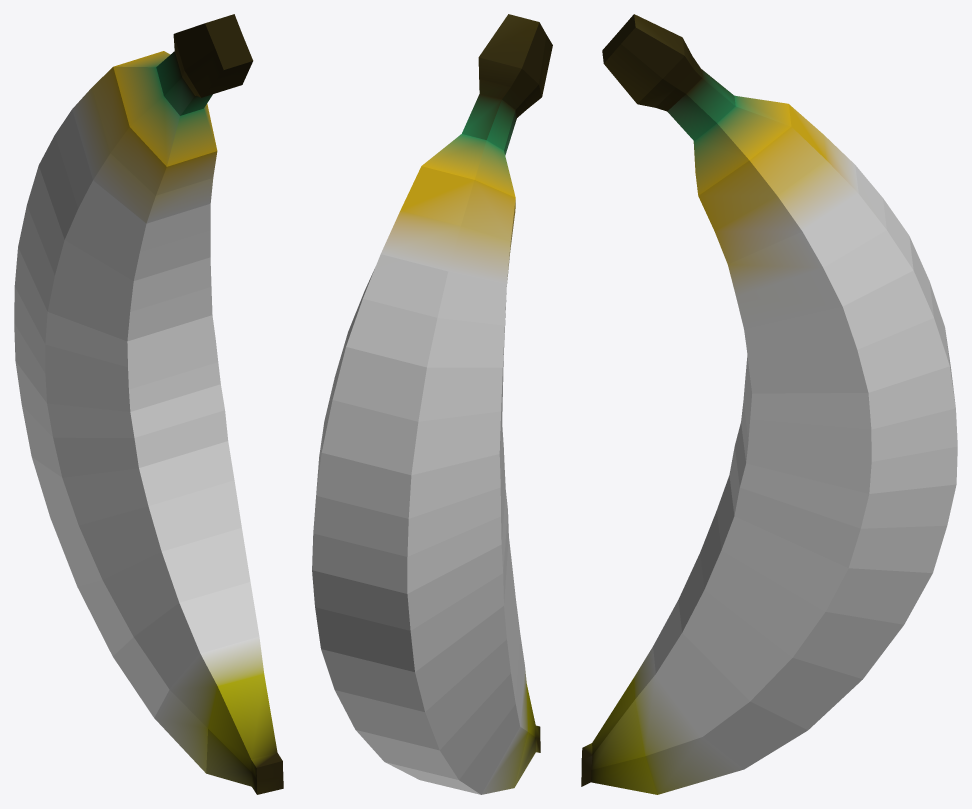
The model's file is banana.fbx.
3 renders of one model, left to right at view 1: azimuth 30°, elevation 25°; view 2: azimuth 150°, elevation 25°; view 3: azimuth 270°, elevation 25°, orthographic.
Parts seen in each view (by area): view 1: Banana; view 2: Banana; view 3: Banana.
Boxes of the visible parts, x1=… form: Banana: x1=14, y1=14, x2=283, y2=794; Banana: x1=312, y1=14, x2=552, y2=794; Banana: x1=581, y1=14, x2=957, y2=794.
Size of the model in its own units: 114 by 252 by 57.08.
